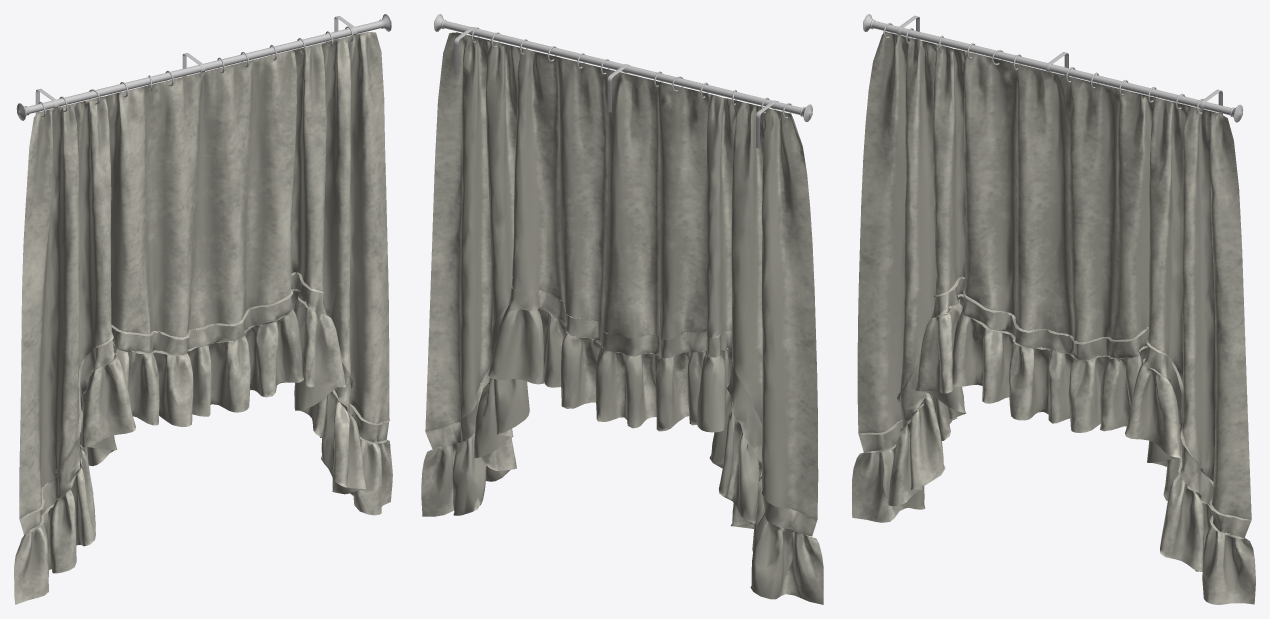
File: curtain.fbx
3 renders of one model, left to right at view 1: azimuth 30°, elevation 25°; view 2: azimuth 150°, elevation 25°; view 3: azimuth 330°, elevation 25°, orthographic.
Parts seen in each view (by area): view 1: curtain_low, rod_low, rings_low; view 2: curtain_low, rod_low, rings_low; view 3: curtain_low, rod_low, rings_low.
Boxes of the visible parts, <box> form: curtain_low: <box>14,32,392,604</box>; rod_low: <box>16,14,391,120</box>; rings_low: <box>38,26,353,117</box>; curtain_low: <box>421,32,823,604</box>; rod_low: <box>434,14,812,148</box>; rings_low: <box>471,27,791,118</box>; curtain_low: <box>852,31,1255,604</box>; rod_low: <box>863,14,1243,122</box>; rings_low: <box>883,23,1203,114</box>.
Size of the model in its own units: 57.27 by 69.77 by 9.37.
